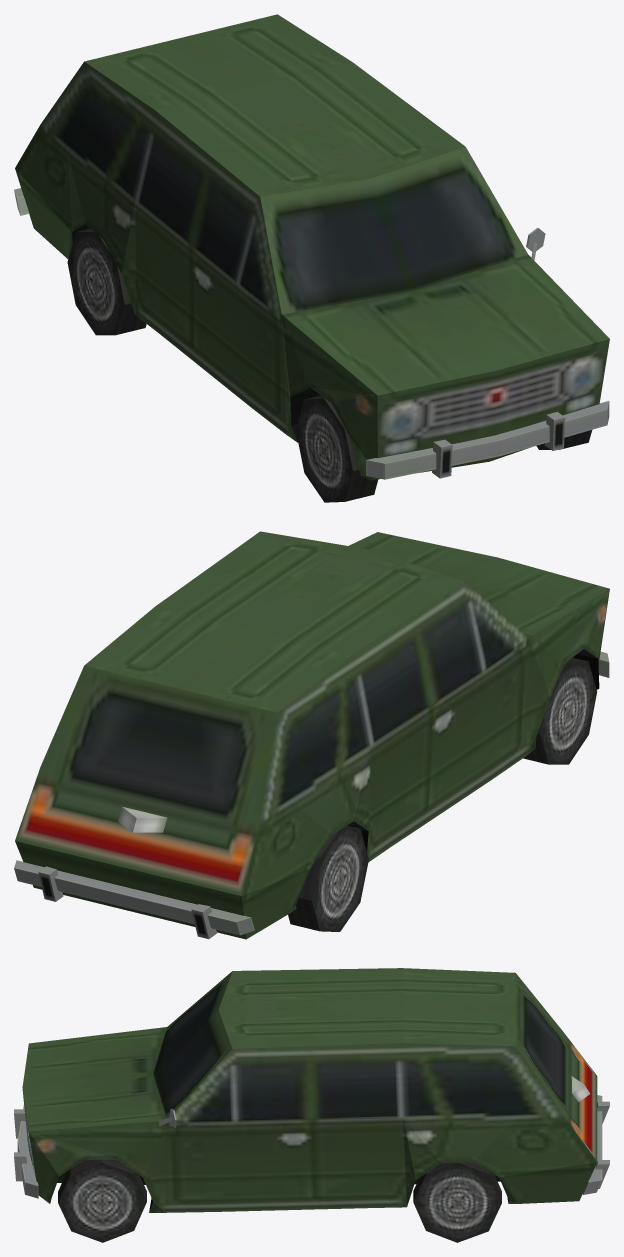
Rendered from station-wagon.glb.
3 views of the same model, one above another, from view 1: azimuth 30°, elevation 25°; view 2: azimuth 150°, elevation 25°; view 3: azimuth 270°, elevation 25° (orthographic). The views are drawn at different scales.
Visible parts, largest first — view 1: Car; view 2: Car; view 3: Car.
Part boxes in pixels (bbox=[...]): Car: bbox=[14, 14, 609, 502]; Car: bbox=[14, 531, 609, 939]; Car: bbox=[14, 968, 609, 1242].
Size of the model in its own units: 2.56 by 2.17 by 6.15.
Materials: 1 (1 with a texture image).
